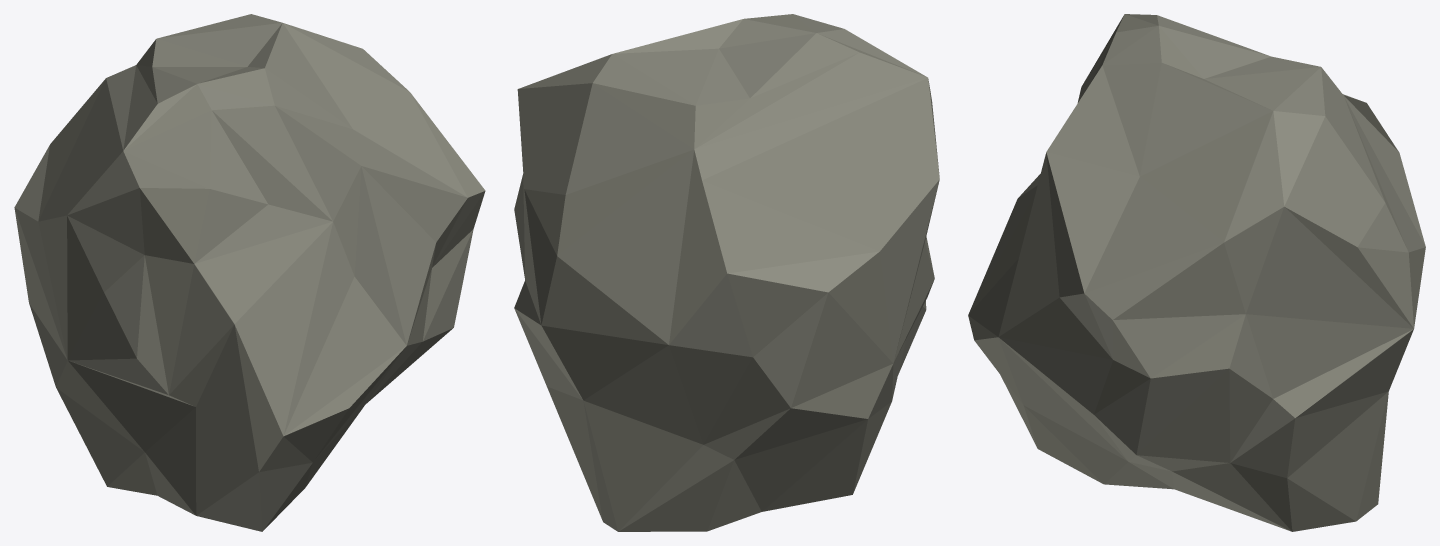
Rendered from SM_rock3.fbx.
3 renders of one model, left to right at view 1: azimuth 30°, elevation 25°; view 2: azimuth 150°, elevation 25°; view 3: azimuth 270°, elevation 25°, orthographic. The views are drawn at different scales.
Parts seen in each view (by area): view 1: SM_rock3; view 2: SM_rock3; view 3: SM_rock3.
Part boxes in pixels (bbox=[...]): SM_rock3: bbox=[14, 14, 485, 531]; SM_rock3: bbox=[514, 14, 939, 531]; SM_rock3: bbox=[968, 14, 1425, 531].
Size of the model in its own units: 105 by 108 by 101.
